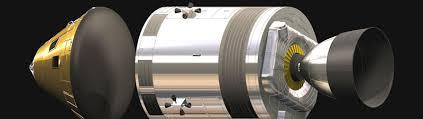body: (135, 5, 318, 119), (32, 6, 135, 119)
thruster: (300, 26, 396, 110), (182, 101, 192, 108), (179, 107, 186, 116), (194, 8, 203, 14), (187, 2, 194, 8), (174, 8, 182, 13), (182, 13, 188, 19), (164, 103, 171, 108), (172, 95, 177, 102)
